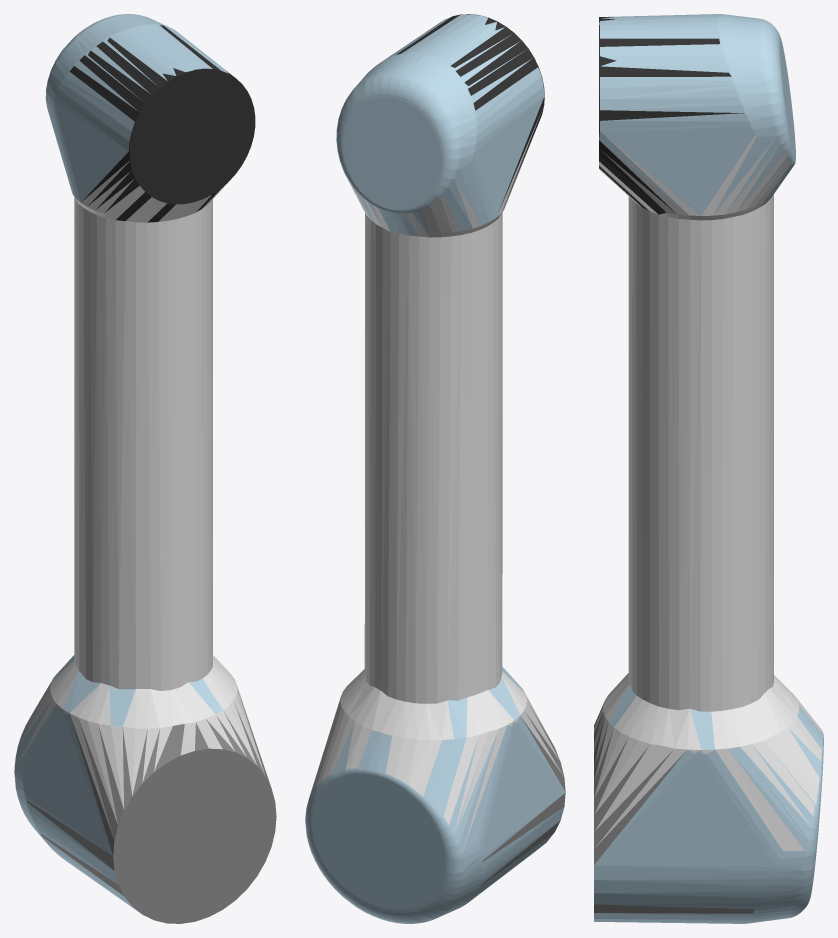
Rendered from upper_arm_multibody.dae.
The picture shows the model from 3 angles, left to right: view 1: azimuth 30°, elevation 25°; view 2: azimuth 150°, elevation 25°; view 3: azimuth 270°, elevation 25°; orthographic projection. The views are drawn at different scales.
Parts seen in each view (by area): view 1: arm_shaft_hull, shoulder_joint_hull, elbow_joint_hull; view 2: arm_shaft_hull, shoulder_joint_hull, elbow_joint_hull; view 3: arm_shaft_hull, shoulder_joint_hull, elbow_joint_hull.
Boxes of the visible parts, x1,y1,x2,y2 form: arm_shaft_hull: (74, 197, 212, 690); shoulder_joint_hull: (14, 655, 276, 923); elbow_joint_hull: (45, 14, 255, 222); arm_shaft_hull: (364, 212, 502, 703); shoulder_joint_hull: (305, 666, 565, 923); elbow_joint_hull: (336, 14, 544, 237); arm_shaft_hull: (628, 194, 773, 711); shoulder_joint_hull: (594, 673, 823, 923); elbow_joint_hull: (599, 14, 795, 220).
Size of the model in its own units: 0.1527 by 0.1746 by 0.7491.
